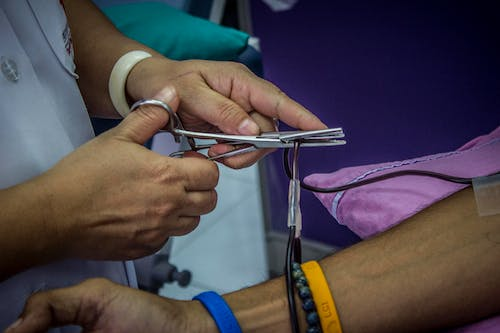blood: (283, 135, 500, 333)
